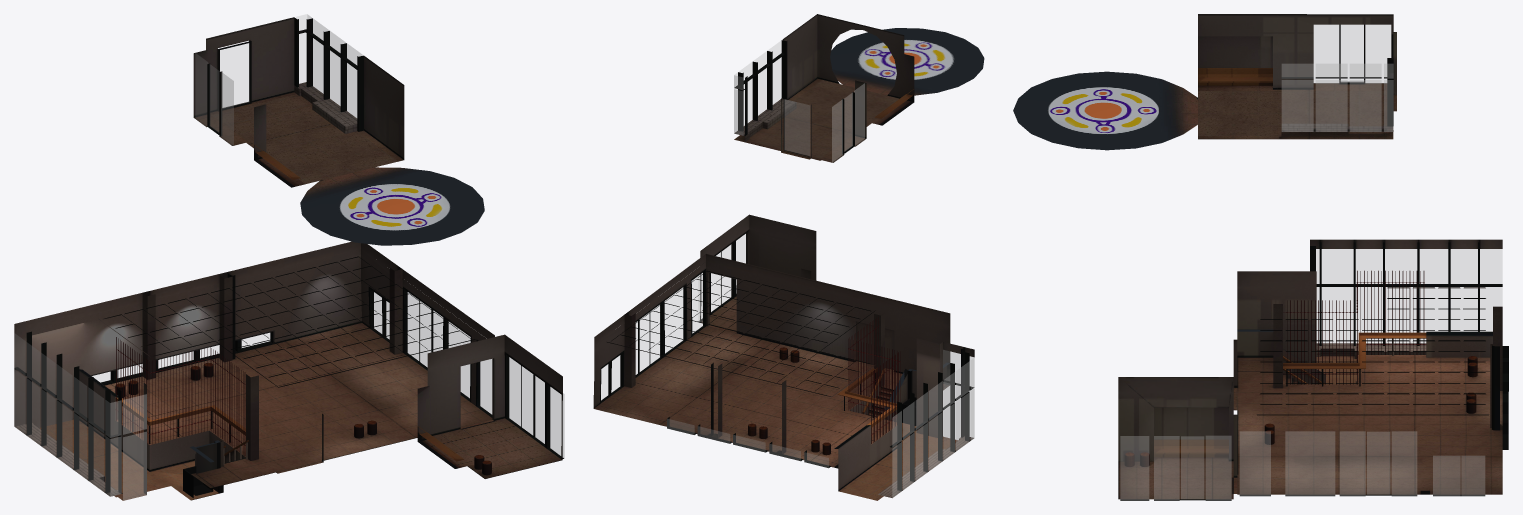
Rendered from exhibition_space_4.glb.
The picture shows the model from 3 angles, left to right: view 1: azimuth 30°, elevation 25°; view 2: azimuth 150°, elevation 25°; view 3: azimuth 270°, elevation 25°; orthographic projection. The views are drawn at different scales.
Visible parts, largest first — view 1: exhibition_geo; view 2: exhibition_geo; view 3: exhibition_geo.
Part boxes in pixels (x1,y1,x2,y2): exhibition_geo: [14, 14, 564, 500]; exhibition_geo: [593, 14, 984, 500]; exhibition_geo: [1013, 14, 1508, 500].
Bounding box in the file's own units: 20.54 × 21.87 × 24.32.
Materials: 2 (1 with a texture image).
